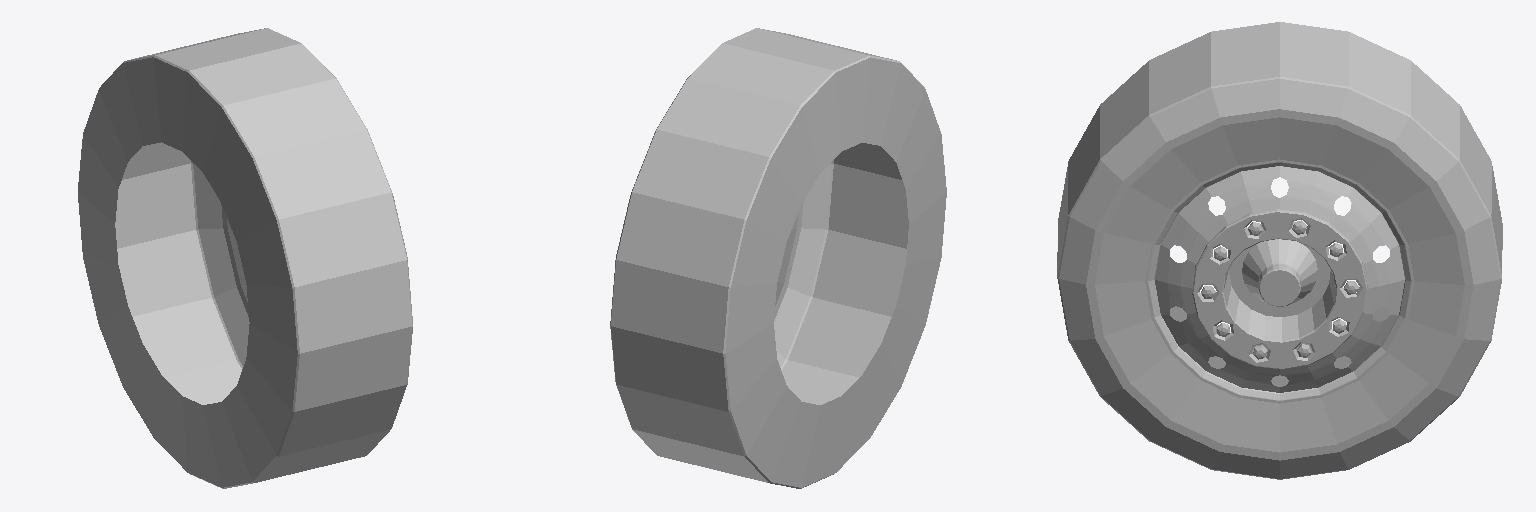
Rendered from BusFrontRight.obj.
3 views of the same model, side by side, from view 1: azimuth 30°, elevation 25°; view 2: azimuth 150°, elevation 25°; view 3: azimuth 270°, elevation 25° (orthographic).
Visible parts, largest first — view 1: BUS_FRWHEEL_Mesh.003; view 2: BUS_FRWHEEL_Mesh.003; view 3: BUS_FRWHEEL_Mesh.003.
Part boxes in pixels (left/top/right/bottom): BUS_FRWHEEL_Mesh.003: left=78, top=28, right=412, bottom=488; BUS_FRWHEEL_Mesh.003: left=610, top=28, right=946, bottom=488; BUS_FRWHEEL_Mesh.003: left=1057, top=22, right=1502, bottom=479.
Bounding box in the file's own units: 0.4603 × 1.2 × 1.2.